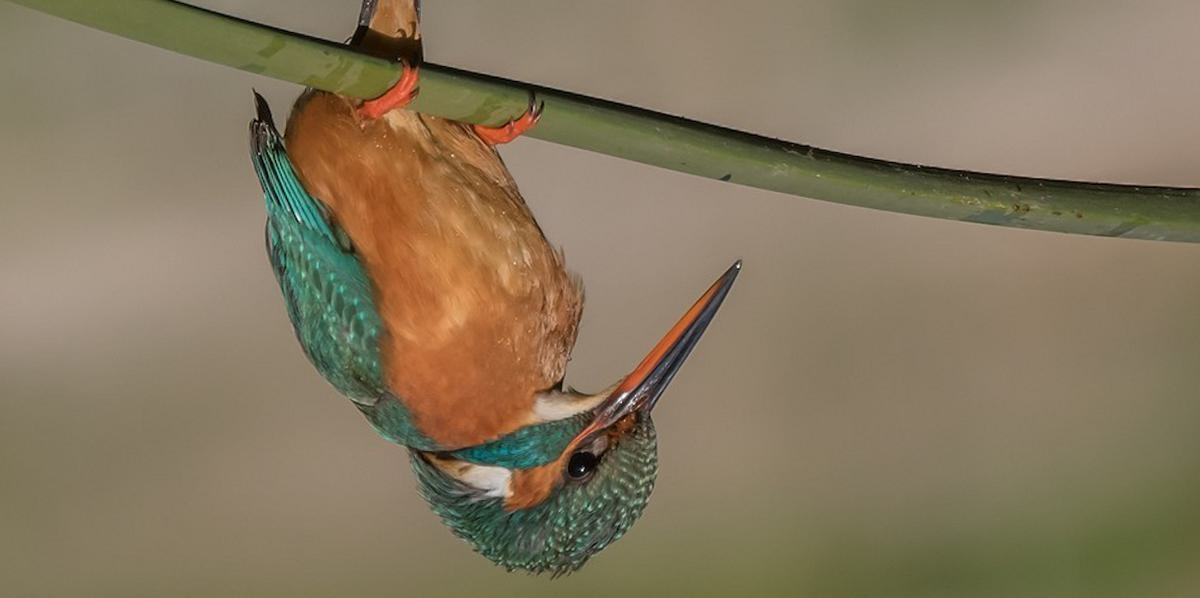kingfisher: (242, 61, 749, 567)
